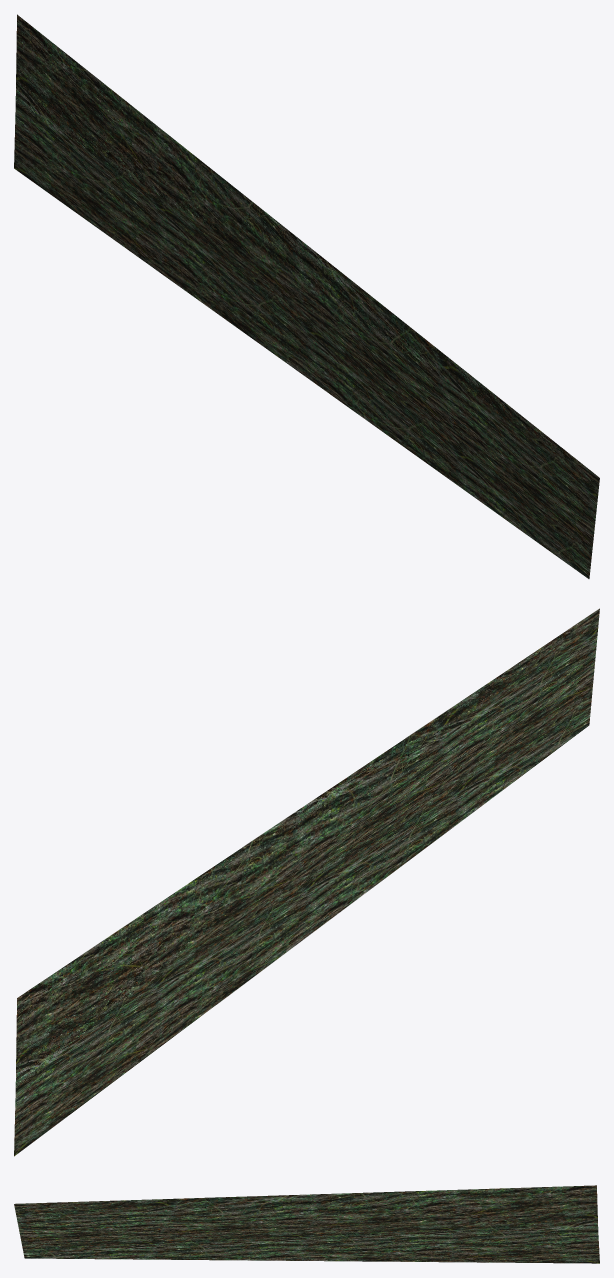
File: decd_dath_overgrownbranch_a2_l3.fbx
The picture shows the model from 3 angles, top to bottom: view 1: azimuth 30°, elevation 25°; view 2: azimuth 150°, elevation 25°; view 3: azimuth 270°, elevation 25°; orthographic projection. The views are drawn at different scales.
Visible parts, largest first — view 1: mesh_node; view 2: mesh_node; view 3: mesh_node.
Part boxes in pixels (<box>): mesh_node: <box>14,14,599,578</box>; mesh_node: <box>14,608,599,1156</box>; mesh_node: <box>14,1185,599,1263</box>.
Bounding box in the file's own units: 5.96e-08 × 1.26 × 8.54.
1 material, 1 textured.
